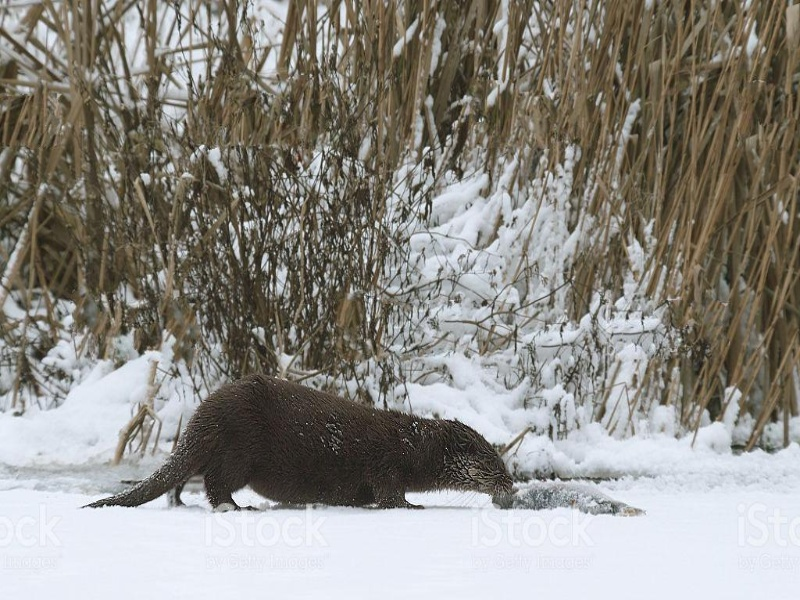minkish: (76, 370, 516, 511)
